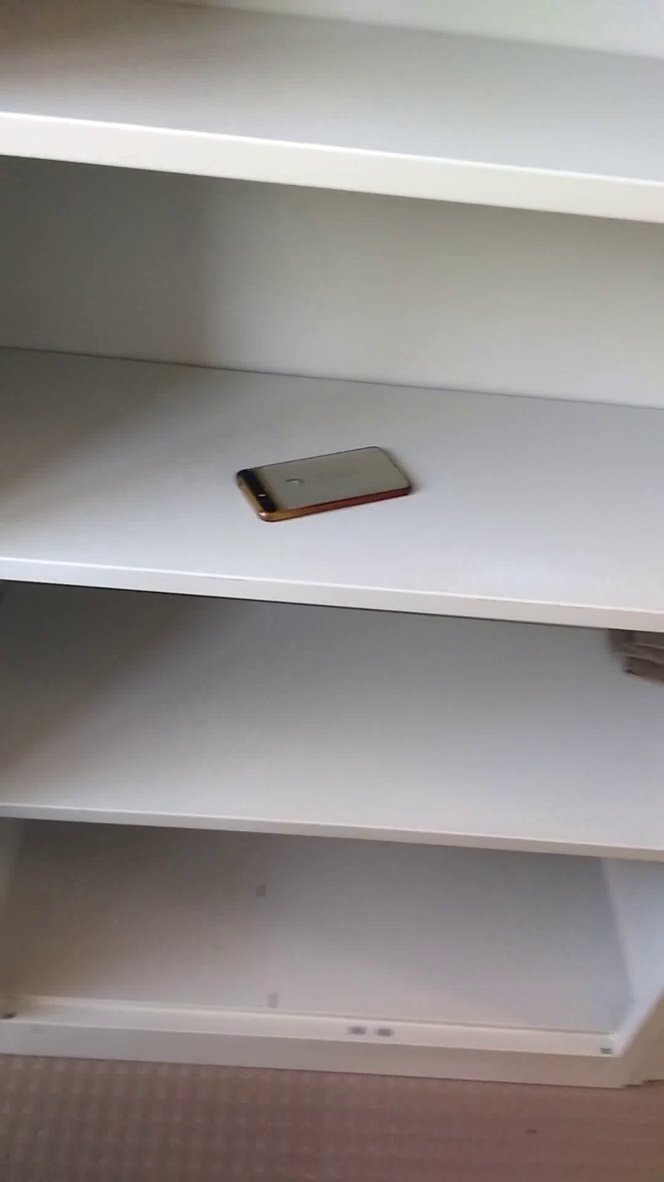phone: (226, 433, 432, 540)
